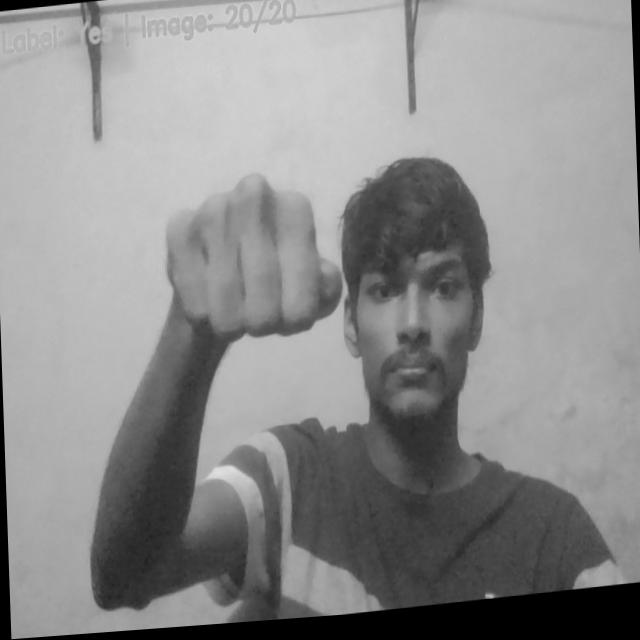Yes: (159, 165, 347, 355)
